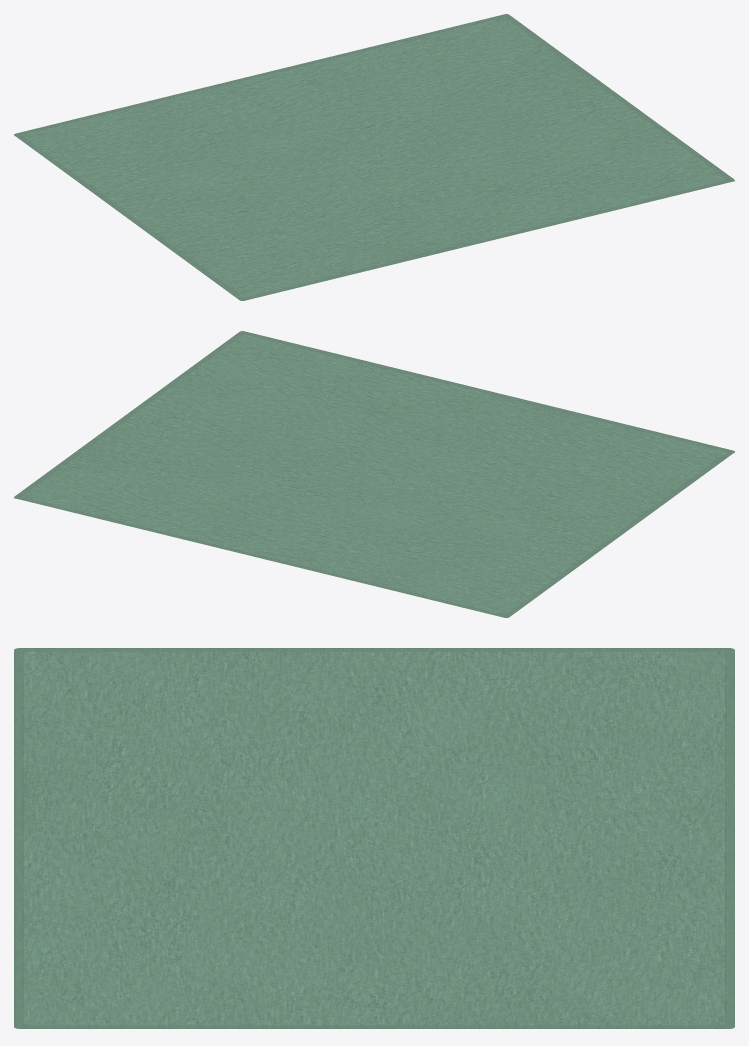
File: green_L_r90.glb
3 views of the same model, one above another, from view 1: azimuth 30°, elevation 25°; view 2: azimuth 150°, elevation 25°; view 3: azimuth 270°, elevation 25° (orthographic). The views are drawn at different scales.
Parts seen in each view (by area): view 1: reliv_green_L_r90; view 2: reliv_green_L_r90; view 3: reliv_green_L_r90.
Boxes of the visible parts, box(x1,y1,x2,y2) form: reliv_green_L_r90: box(14, 14, 734, 300); reliv_green_L_r90: box(14, 331, 734, 617); reliv_green_L_r90: box(14, 648, 734, 1028).
Size of the model in its own units: 2.5 by 0.009 by 2.
2 materials, 1 textured.
